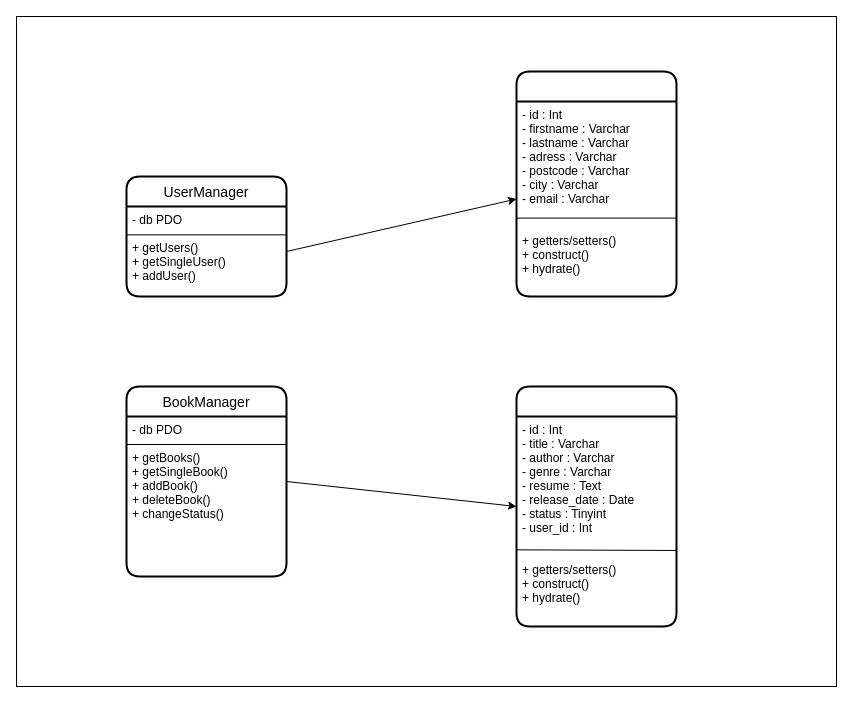
Some shapes in this 853 by 703 pixel diagram are drawn without their labels. Here are the shapes that lost their labels. From the top down, the box of each, then its label:
(515, 70, 677, 297): User
(515, 385, 677, 627): Book
